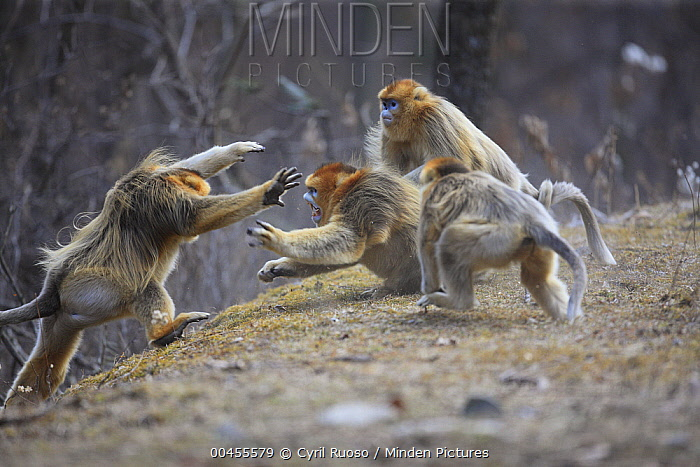GoldenSnub-Nosed: (16, 139, 272, 369), (412, 159, 575, 312), (283, 160, 423, 297), (372, 86, 531, 194)
